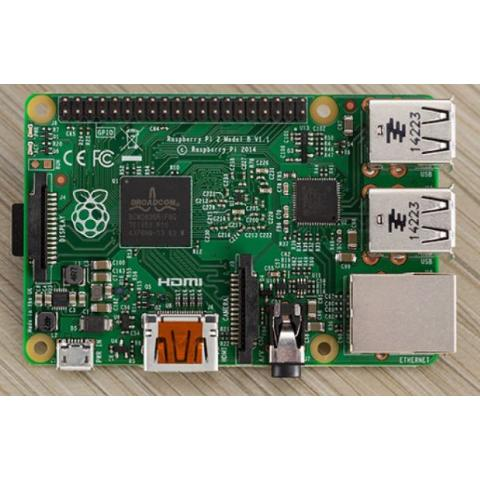Raspberry-Pi-2-Model-B: (8, 89, 466, 387)
